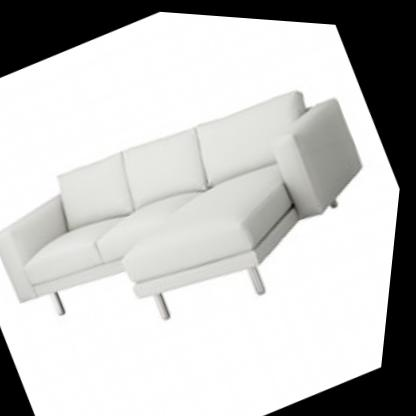Sofa: (0, 16, 415, 415)
